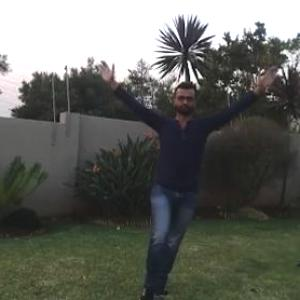takeoff: (100, 61, 280, 299)
